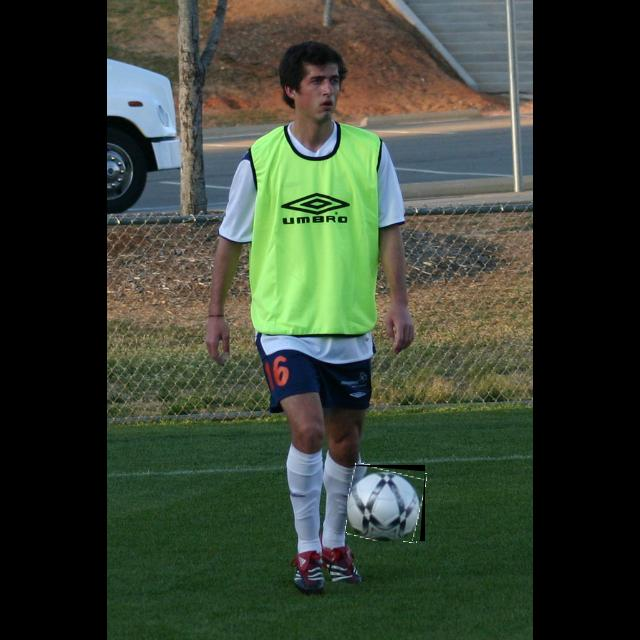Football: (347, 465, 425, 541)
